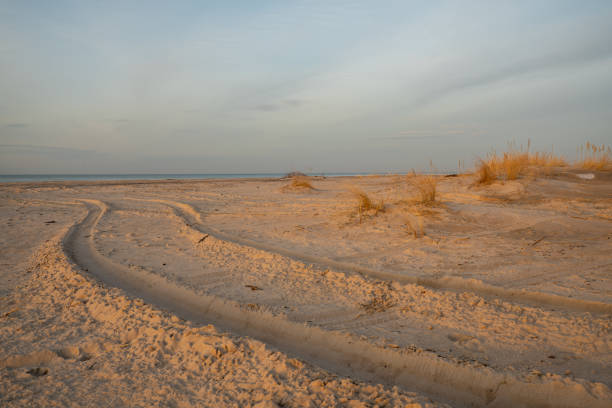vehicle_track: (63, 200, 608, 406), (133, 199, 611, 313)
